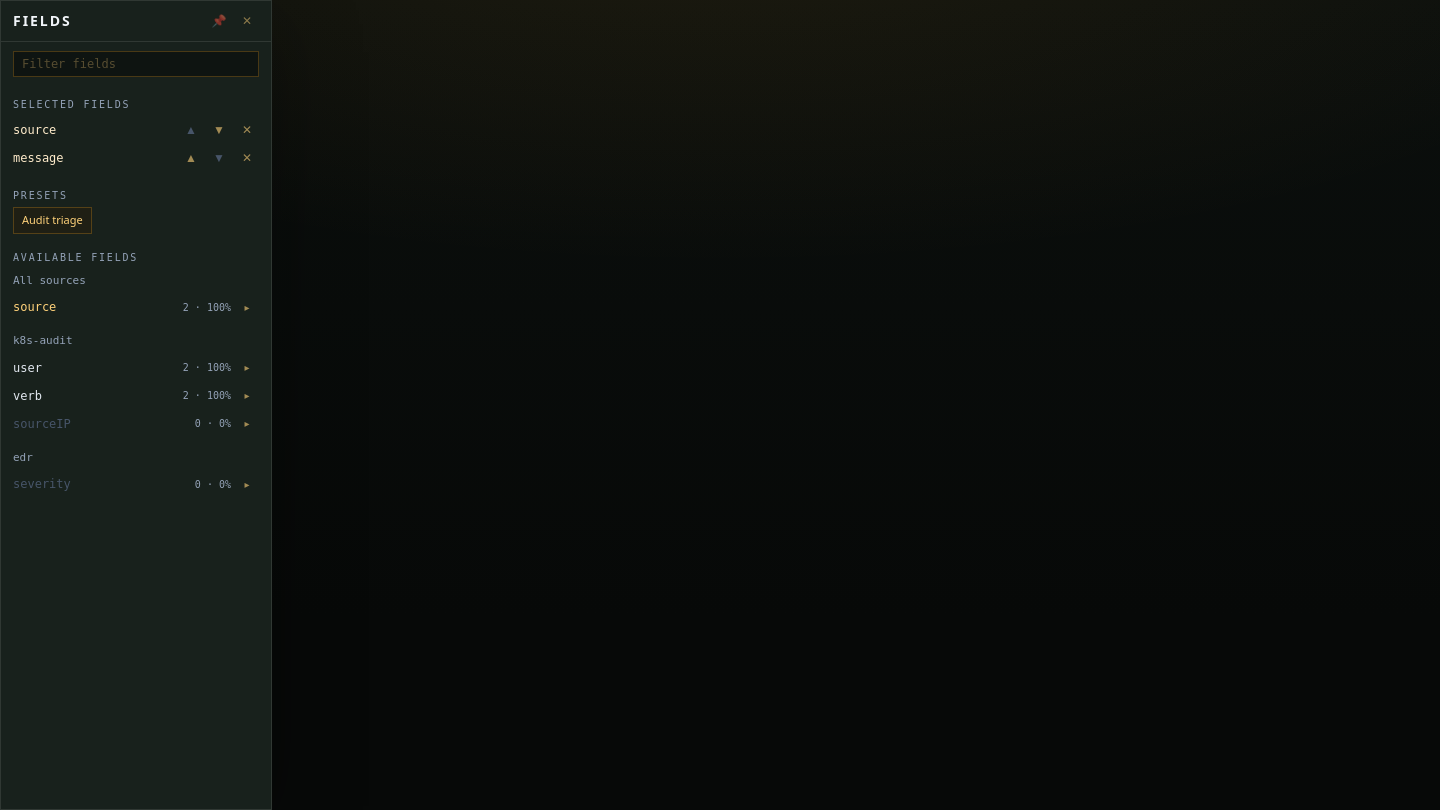
Test: FieldPanel › expands a field to show its values
Step 1. Click the button named "show values for verb" → (247, 396), box [235,384,259,408]
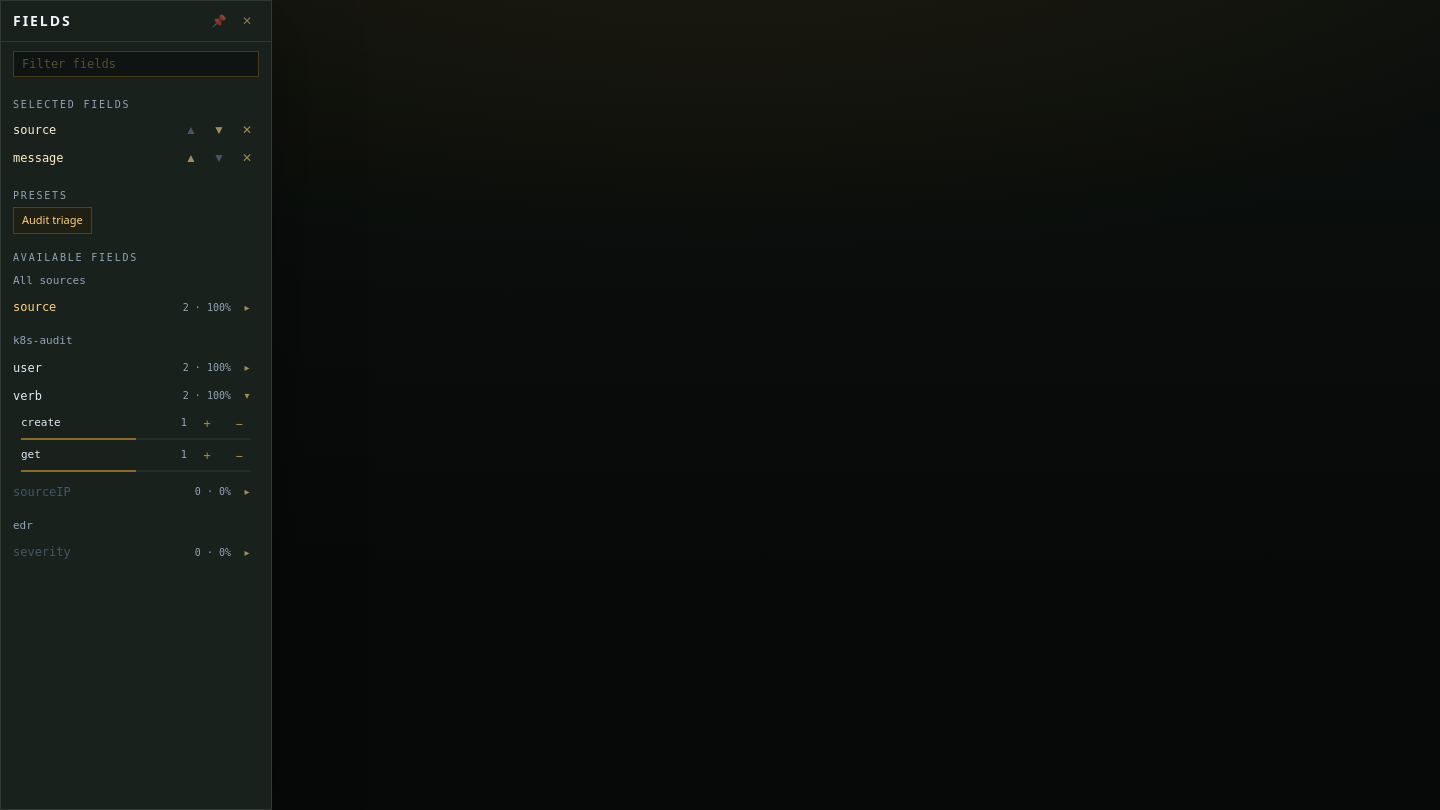
Expected: the button named "Filter to verb=create" is shown, [195,412,219,436]
